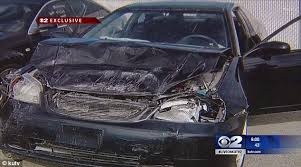Broken-glass: (155, 94, 227, 124), (10, 76, 42, 103)
Dent: (27, 45, 229, 87)
Scratch: (125, 141, 160, 157)
